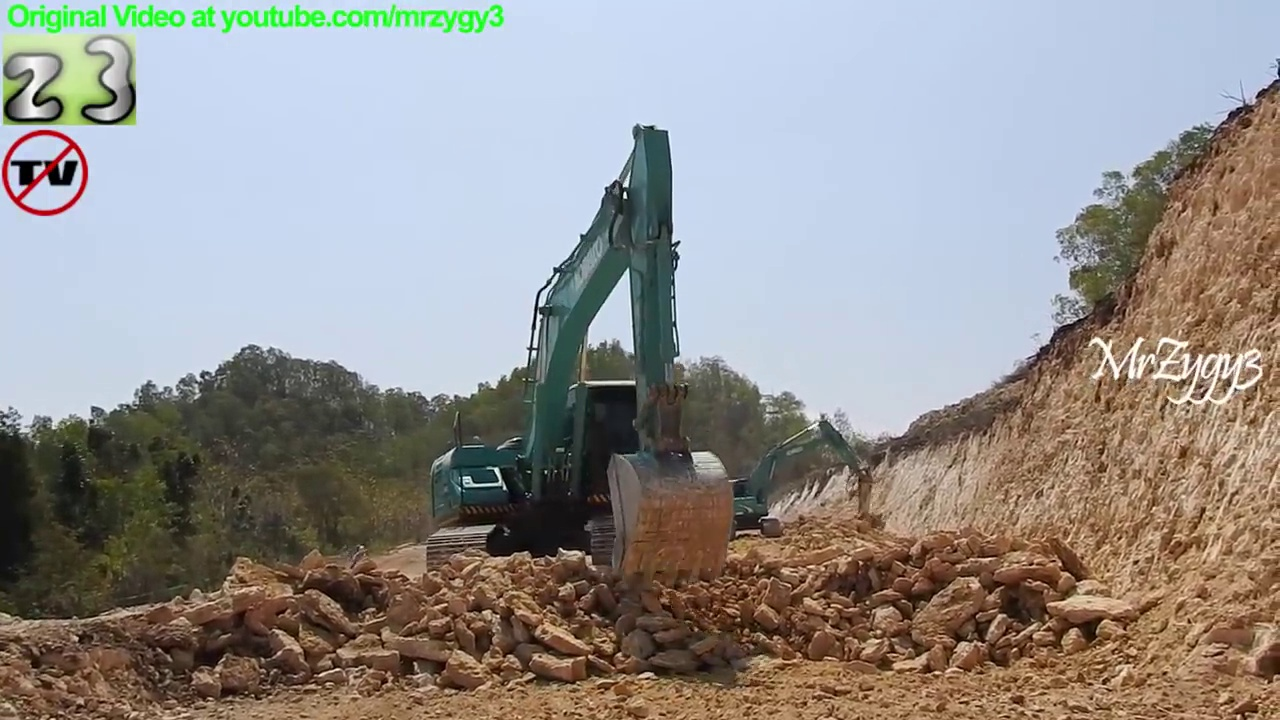excavator: (417, 119, 740, 596), (684, 412, 879, 548)
